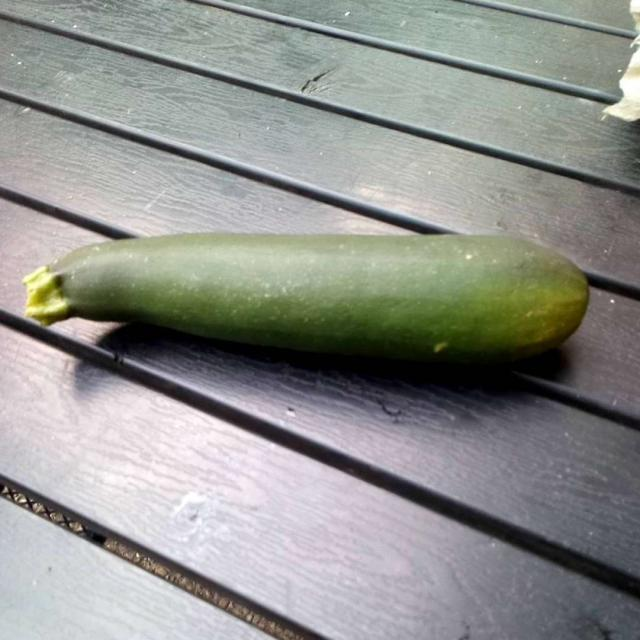cucumber: (33, 232, 584, 368)
